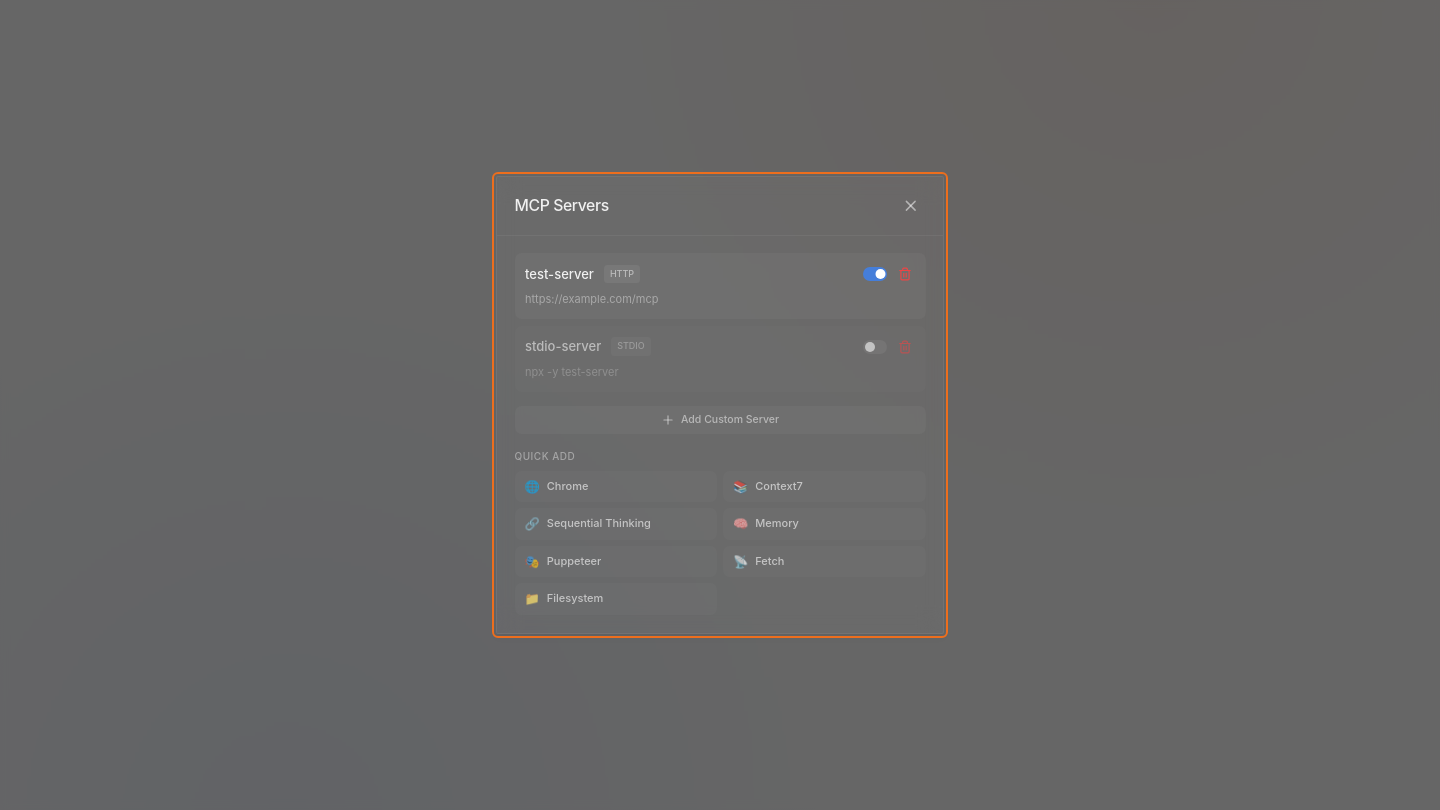
it: MCPModal › add server form › should show form when Add Custom Server clicked
The width and height of the screenshot is (1440, 810).
Click the button "Add Custom Server".
click(720, 420)  # box [514, 406, 926, 434]
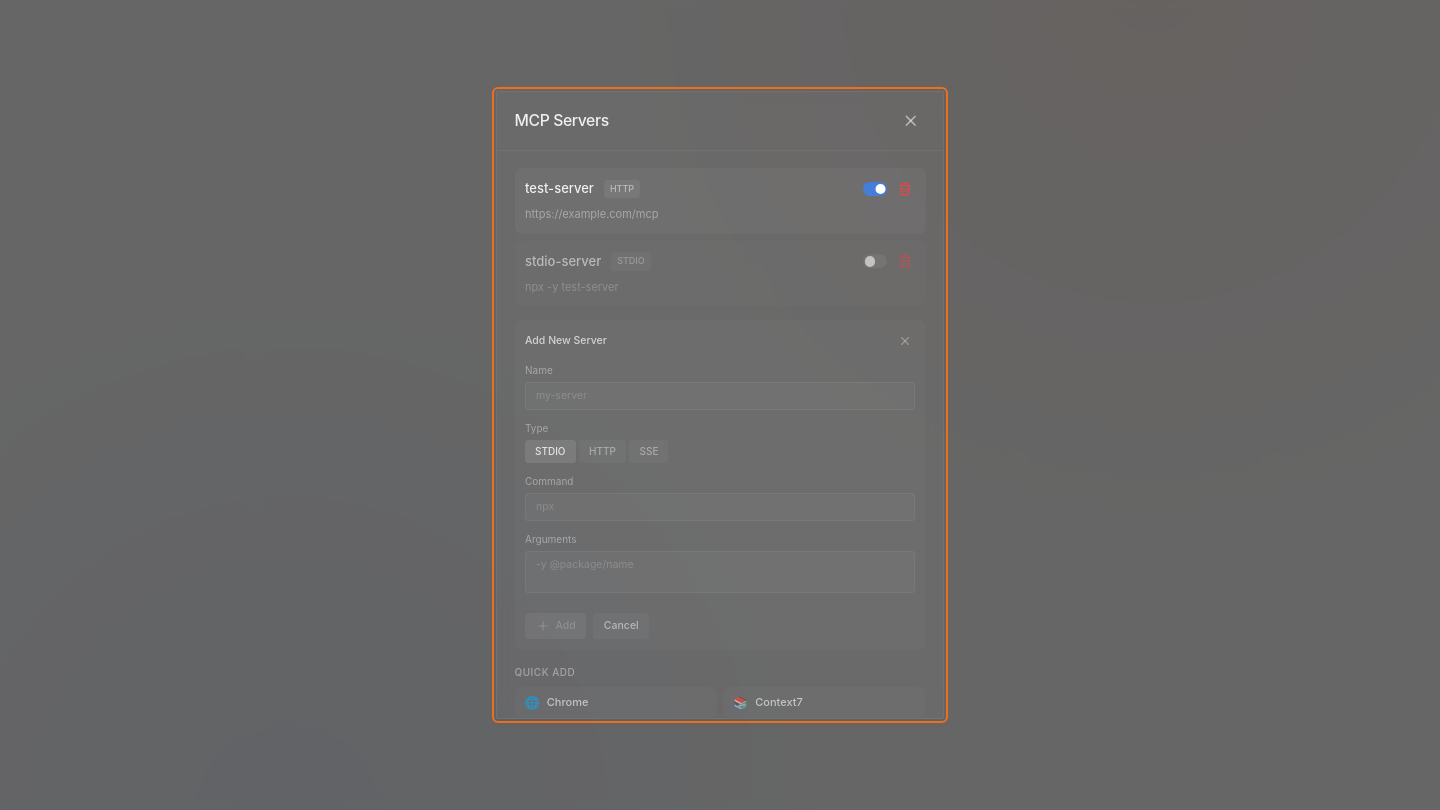
Now the heading "Add New Server" is shown, box [525, 334, 607, 348]
Now the field with placeholder "my-server" is shown, box [525, 382, 915, 410]
